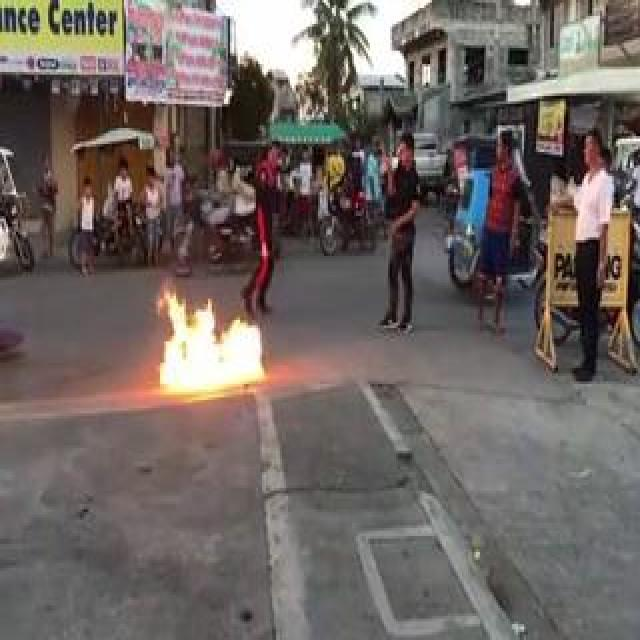Smoke: (157, 291, 267, 394)
